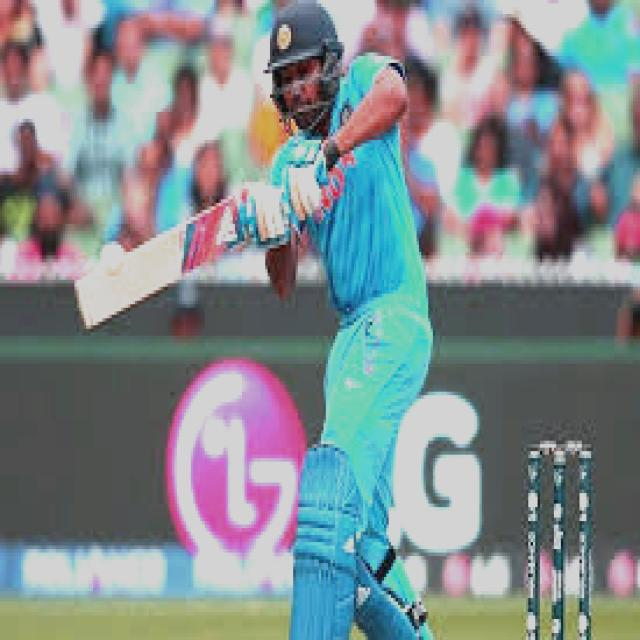toe: (66, 281, 104, 334)
